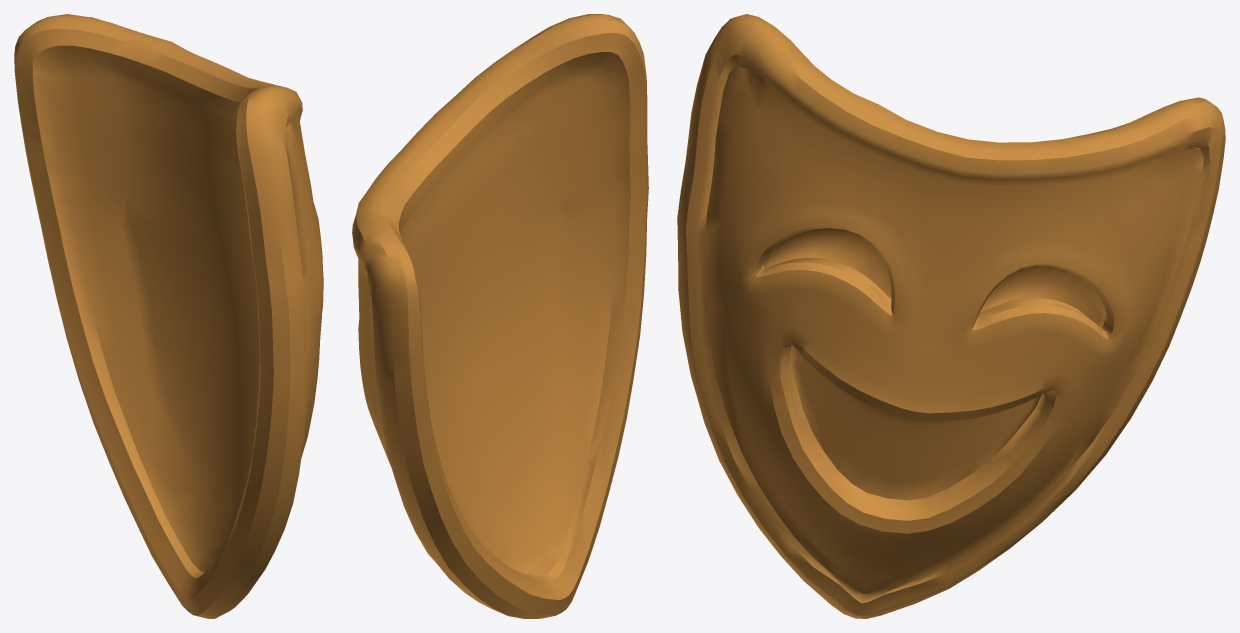
Rendered from SM_Menu_ComedyMask.fbx.
The picture shows the model from 3 angles, left to right: view 1: azimuth 30°, elevation 25°; view 2: azimuth 150°, elevation 25°; view 3: azimuth 270°, elevation 25°; orthographic projection. The views are drawn at different scales.
Visible parts, largest first — view 1: SM_Menu_ComedyMask; view 2: SM_Menu_ComedyMask; view 3: SM_Menu_ComedyMask.
Boxes of the visible parts, x1,y1,x2,y2 form: SM_Menu_ComedyMask: [14, 14, 323, 618]; SM_Menu_ComedyMask: [352, 14, 648, 618]; SM_Menu_ComedyMask: [677, 14, 1225, 618].
Size of the model in its own units: 8.38 by 28.24 by 33.98.
